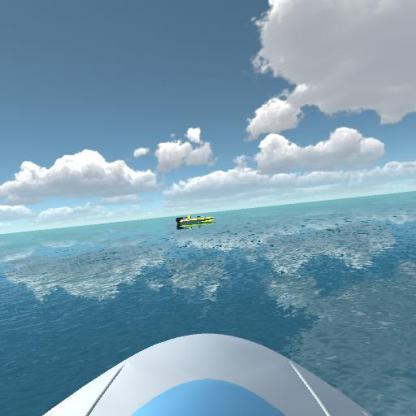usv2: (173, 208, 217, 232)
